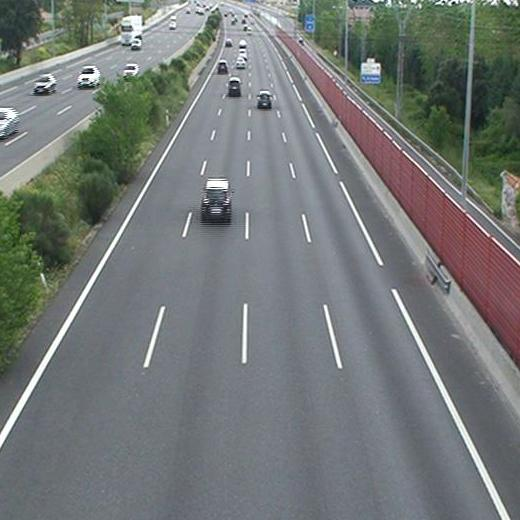car: (201, 181, 231, 215), (258, 91, 272, 108), (228, 79, 241, 92), (235, 58, 245, 69), (217, 60, 227, 71), (238, 48, 247, 58)
